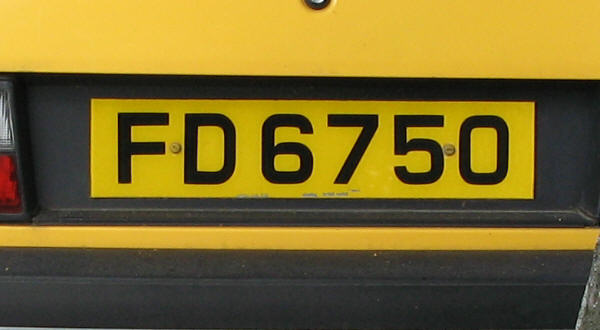license_plate: (89, 97, 535, 202)
